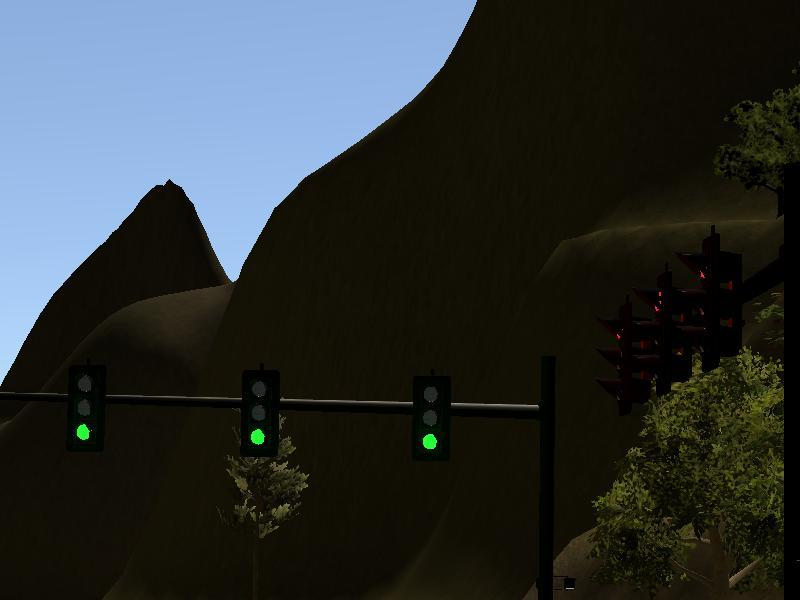Green: (67, 363, 102, 455), (415, 369, 448, 459), (243, 368, 277, 455)
